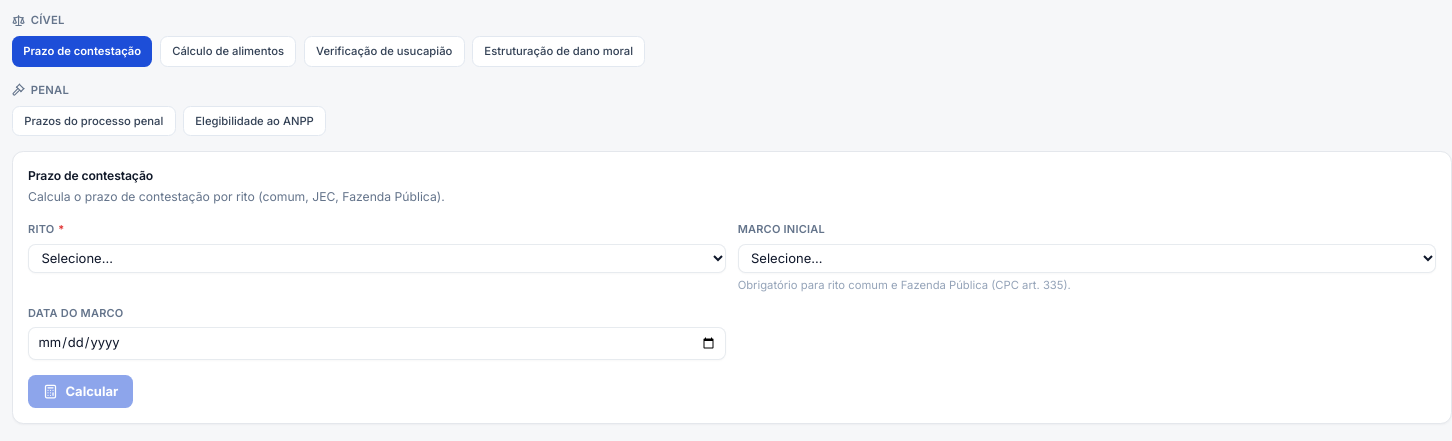
Test: CalculadorasJuridicas — cálculo › trata erro 422 com detail em string
Click the button "Prazos do processo penal" at (94, 121), box [12,106,176,136]
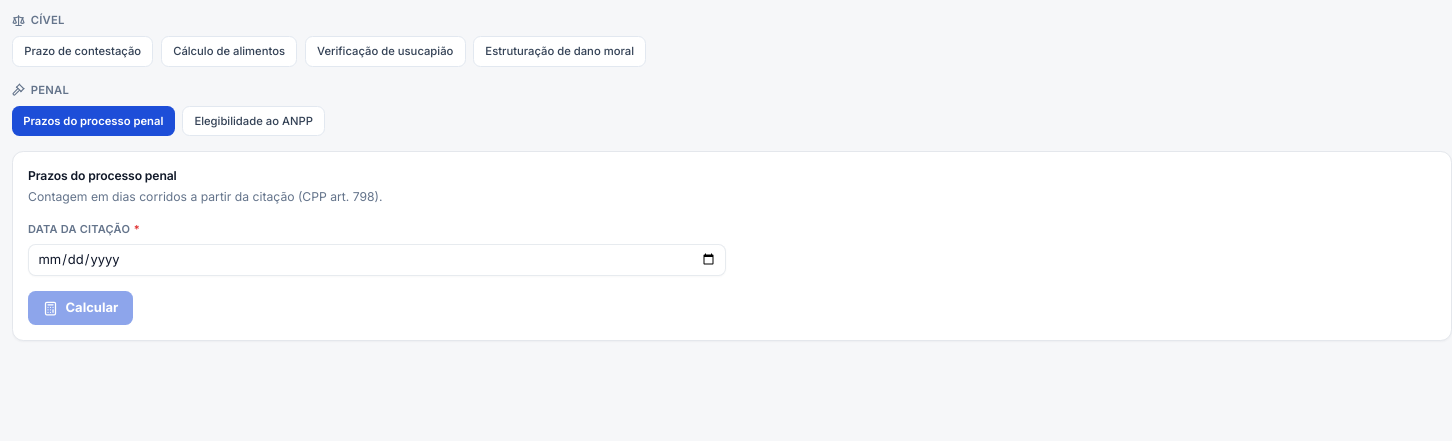
Type "2026-01-01" into the date field at (377, 260), box [28,244,726,276]
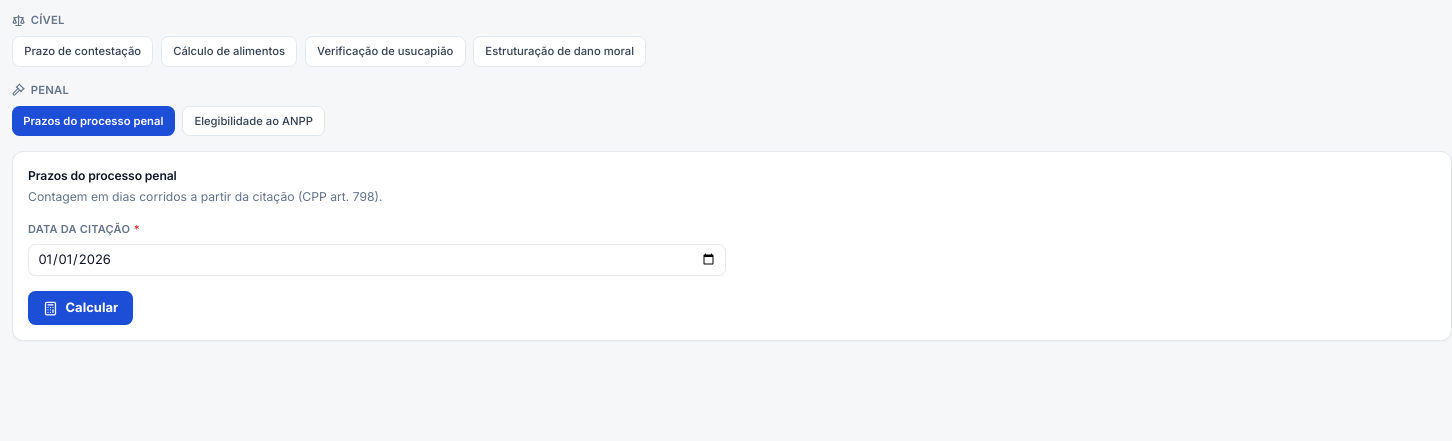
Click the button "Calcular" at (81, 308), box [28,291,133,325]
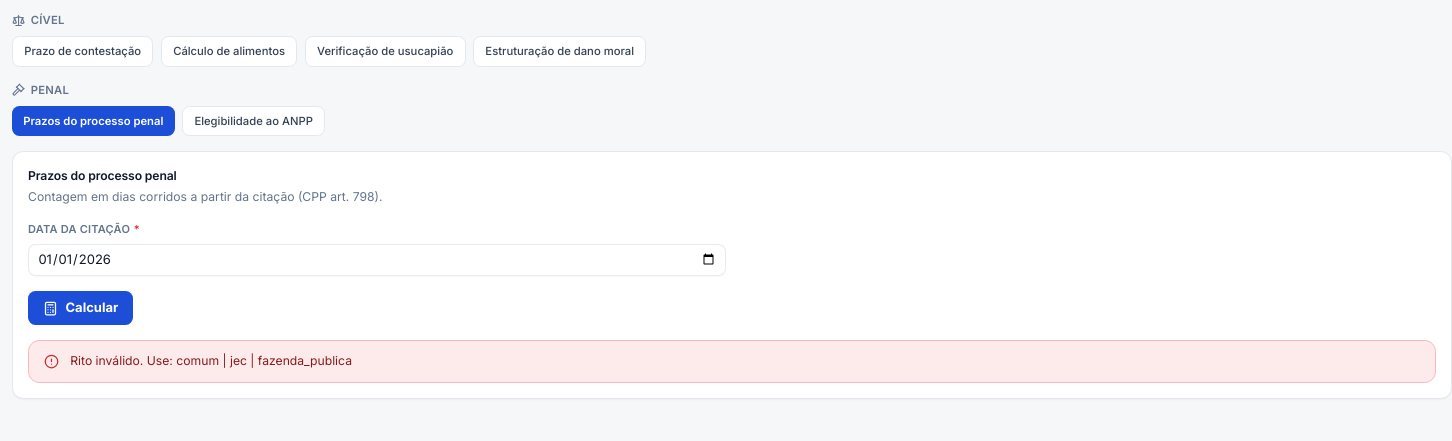
expect the text "Rito inválido. Use: comum | jec | fazenda_publica" is shown: met, box [70,352,352,371]
